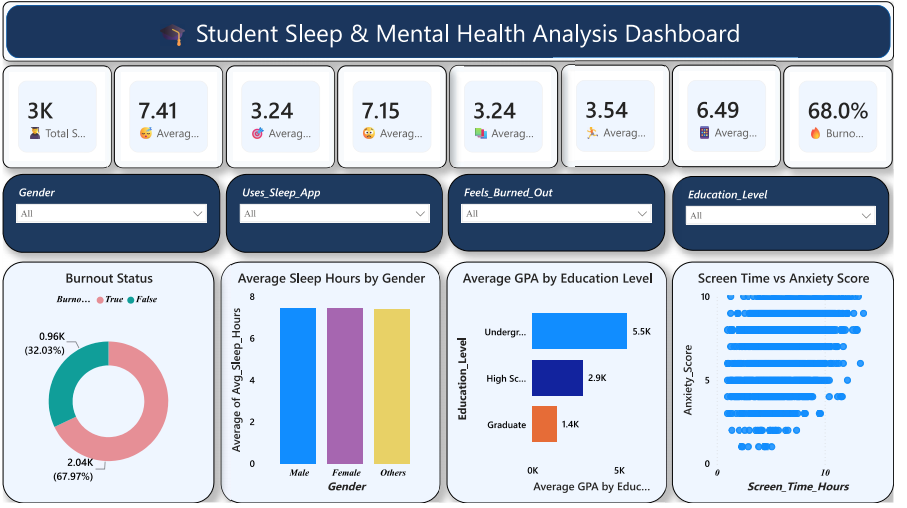

Layout of this report page (visuals, bound fields, positions):
{"tool":"powerbi","page":{"name":"Student Sleep & Mental Health Analysis Dashboard","canvas":[1280,720],"ordinal":0},"visuals":[{"type":"shape","box":[0,0,1280.8,87.4],"z":0},{"type":"cardVisual","fields":{"Data":["student_sleep_mental_health_2026.Total Students"]},"box":[0,92.3,157,147.3],"z":1000},{"type":"cardVisual","fields":{"Data":["student_sleep_mental_health_2026.Avg Sleep Hours"]},"box":[160.3,92.3,157,147.3],"z":2000},{"type":"cardVisual","fields":{"Data":["student_sleep_mental_health_2026.Avg Exercise Hours"]},"box":[801.5,90.7,157,147.3],"z":3000},{"type":"cardVisual","fields":{"Data":["student_sleep_mental_health_2026.Avg GPA"]},"box":[320.6,92.3,157,147.3],"z":4000},{"type":"cardVisual","fields":{"Data":["student_sleep_mental_health_2026.Avg Study Hours"]},"box":[641.2,92.3,157,147.3],"z":5000},{"type":"cardVisual","fields":{"Data":["student_sleep_mental_health_2026.Avg Anxiety Score"]},"box":[480.9,92.3,157,147.3],"z":6000},{"type":"cardVisual","fields":{"Data":["student_sleep_mental_health_2026.Avg Screen Time"]},"box":[961.8,90.7,157,147.3],"z":7000},{"type":"cardVisual","fields":{"Data":["student_sleep_mental_health_2026.Burnout %"]},"box":[1122.1,92.3,157,147.3],"z":8000},{"type":"slicer","fields":{"Values":["student_sleep_mental_health_2026.gender"]},"box":[0,247.7,312.5,113.3],"z":9000},{"type":"slicer","fields":{"Values":["student_sleep_mental_health_2026.education_level"]},"box":[961.8,251,312.5,106.9],"z":10000},{"type":"slicer","fields":{"Values":["student_sleep_mental_health_2026.uses_sleep_app"]},"box":[320.6,247.7,312.5,113.3],"z":11000},{"type":"slicer","fields":{"Values":["student_sleep_mental_health_2026.feels_burned_out"]},"box":[639.6,247.7,312.5,111.7],"z":12000},{"type":"clusteredColumnChart","title":"Average Sleep Hours by Gender","fields":{"Category":["student_sleep_mental_health_2026.gender"],"Y":["Avg(student_sleep_mental_health_2026.avg_sleep_hours)"]},"box":[312.5,374,317.4,346.5],"z":13000},{"type":"clusteredBarChart","title":"Average GPA by Education Level","fields":{"Y":["Sum(student_sleep_mental_health_2026.gpa)"],"Category":["student_sleep_mental_health_2026.education_level"]},"box":[638,374,317.4,346.5],"z":14000},{"type":"donutChart","title":"Burnout Status","fields":{"Category":["student_sleep_mental_health_2026.feels_burned_out"],"Y":["CountNonNull(student_sleep_mental_health_2026.student_id)"]},"box":[0,374,304.4,346.5],"z":15000},{"type":"scatterChart","title":"Screen Time vs Anxiety Score","fields":{"X":["Sum(student_sleep_mental_health_2026.screen_time_hours)"],"Y":["Sum(student_sleep_mental_health_2026.anxiety_score)"]},"box":[961.8,374,319,346.5],"z":16000}]}

Visuals, with their boxes in screenshot pixels (x1, y1, x2, y2), scaled from the page's 1280x720 canvas onto the 907x508 screenshot:
shape: crop(0, 0, 906, 62)
cardVisual - student_sleep_mental_health_2026.Total Students: crop(0, 65, 111, 169)
cardVisual - student_sleep_mental_health_2026.Avg Sleep Hours: crop(114, 65, 225, 169)
cardVisual - student_sleep_mental_health_2026.Avg Exercise Hours: crop(568, 64, 679, 168)
cardVisual - student_sleep_mental_health_2026.Avg GPA: crop(227, 65, 338, 169)
cardVisual - student_sleep_mental_health_2026.Avg Study Hours: crop(454, 65, 566, 169)
cardVisual - student_sleep_mental_health_2026.Avg Anxiety Score: crop(341, 65, 452, 169)
cardVisual - student_sleep_mental_health_2026.Avg Screen Time: crop(682, 64, 793, 168)
cardVisual - student_sleep_mental_health_2026.Burnout %: crop(795, 65, 906, 169)
slicer - student_sleep_mental_health_2026.gender: crop(0, 175, 221, 255)
slicer - student_sleep_mental_health_2026.education_level: crop(682, 177, 903, 253)
slicer - student_sleep_mental_health_2026.uses_sleep_app: crop(227, 175, 449, 255)
slicer - student_sleep_mental_health_2026.feels_burned_out: crop(453, 175, 675, 254)
"Average Sleep Hours by Gender" clusteredColumnChart: crop(221, 264, 446, 507)
"Average GPA by Education Level" clusteredBarChart: crop(452, 264, 677, 507)
"Burnout Status" donutChart: crop(0, 264, 216, 507)
"Screen Time vs Anxiety Score" scatterChart: crop(682, 264, 906, 507)
